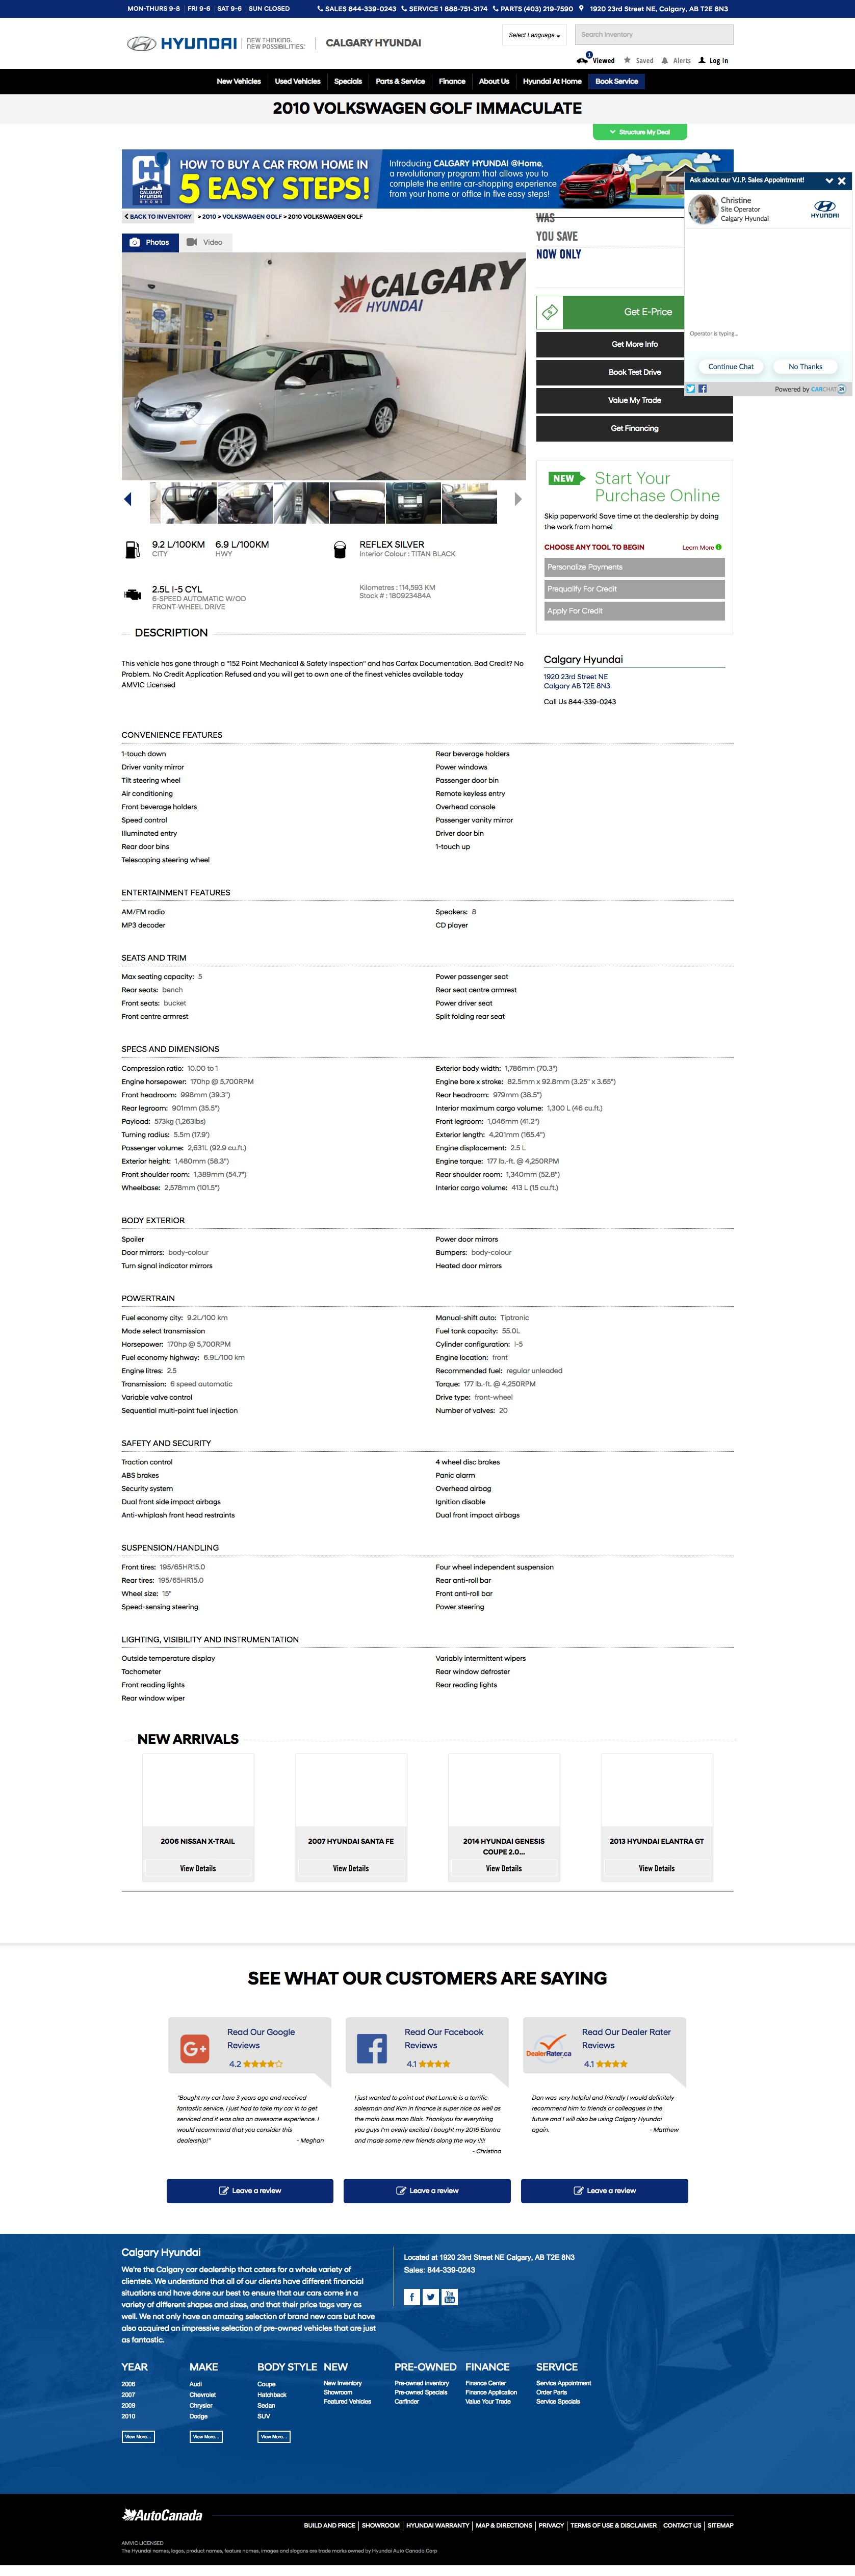car: (515, 493, 523, 508)
